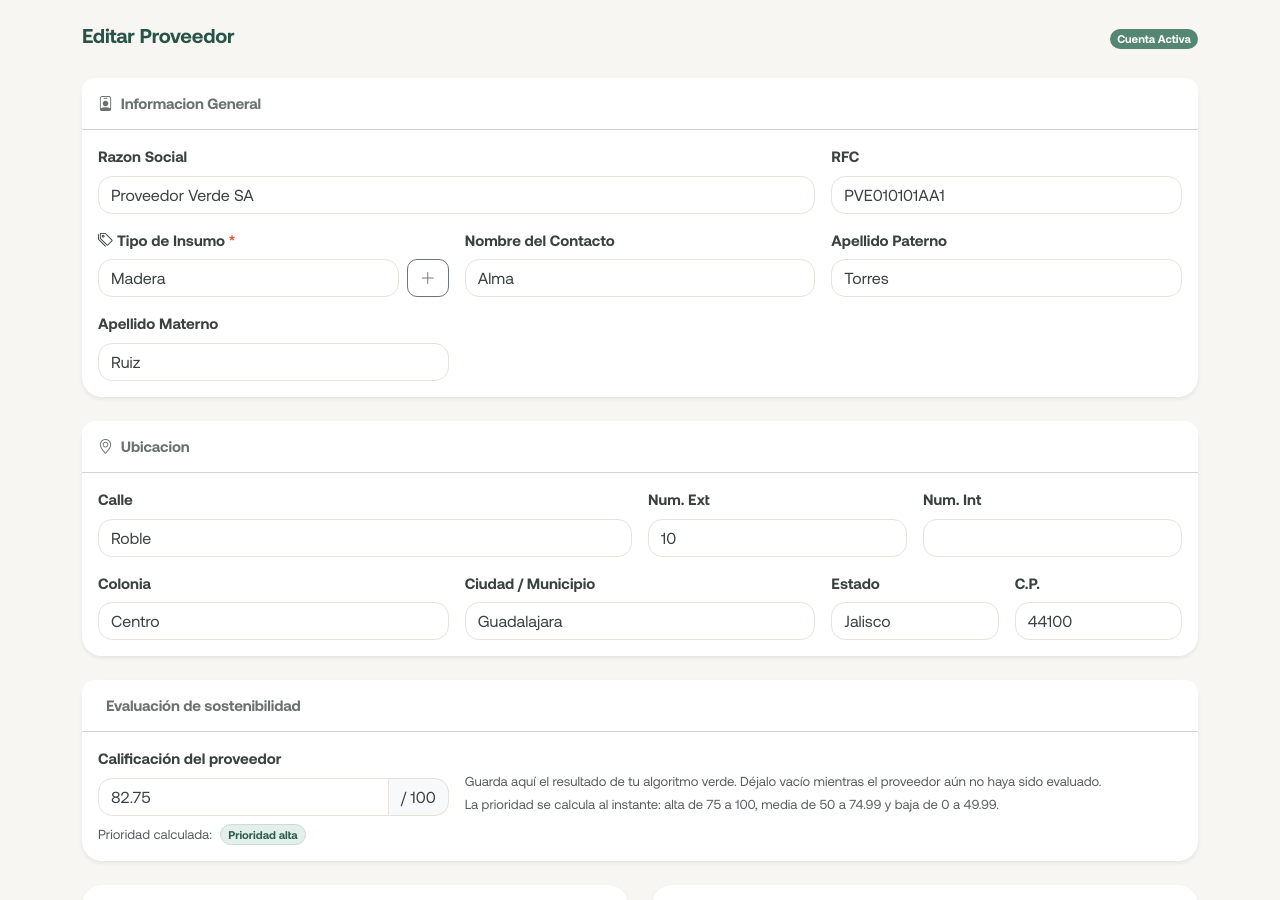
ProveedorForm › muestra y recalcula la prioridad al instante sin guardar
Check: the text "Prioridad alta" is shown, box [220, 824, 306, 845]
Clear the number field labelled "Calificación del proveedor" at x=244, y=797, box [98, 778, 389, 816]
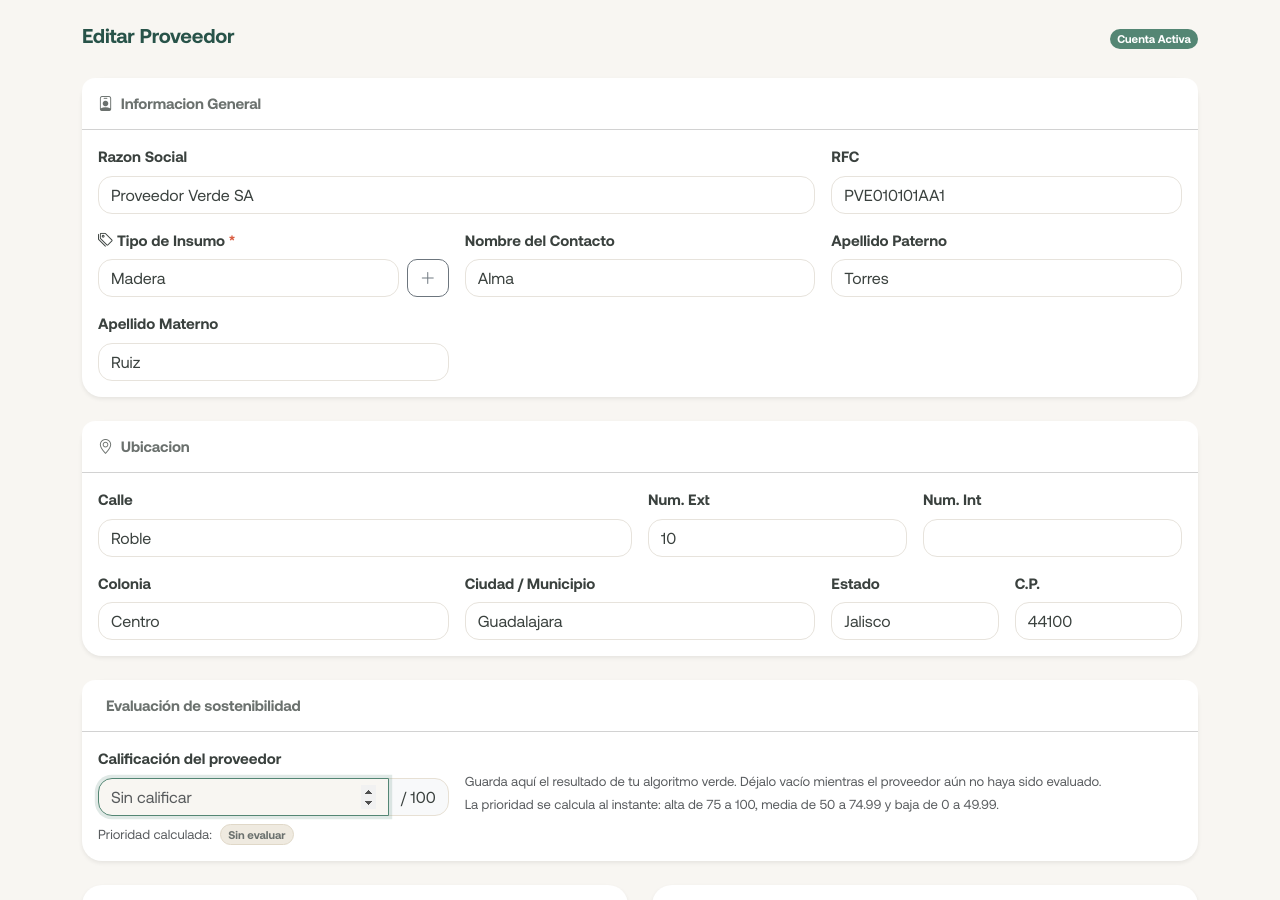
Check: the text "Sin evaluar" is shown, box [220, 824, 294, 845]
Type "49.99" into the number field labelled "Calificación del proveedor" at x=244, y=797, box [98, 778, 389, 816]
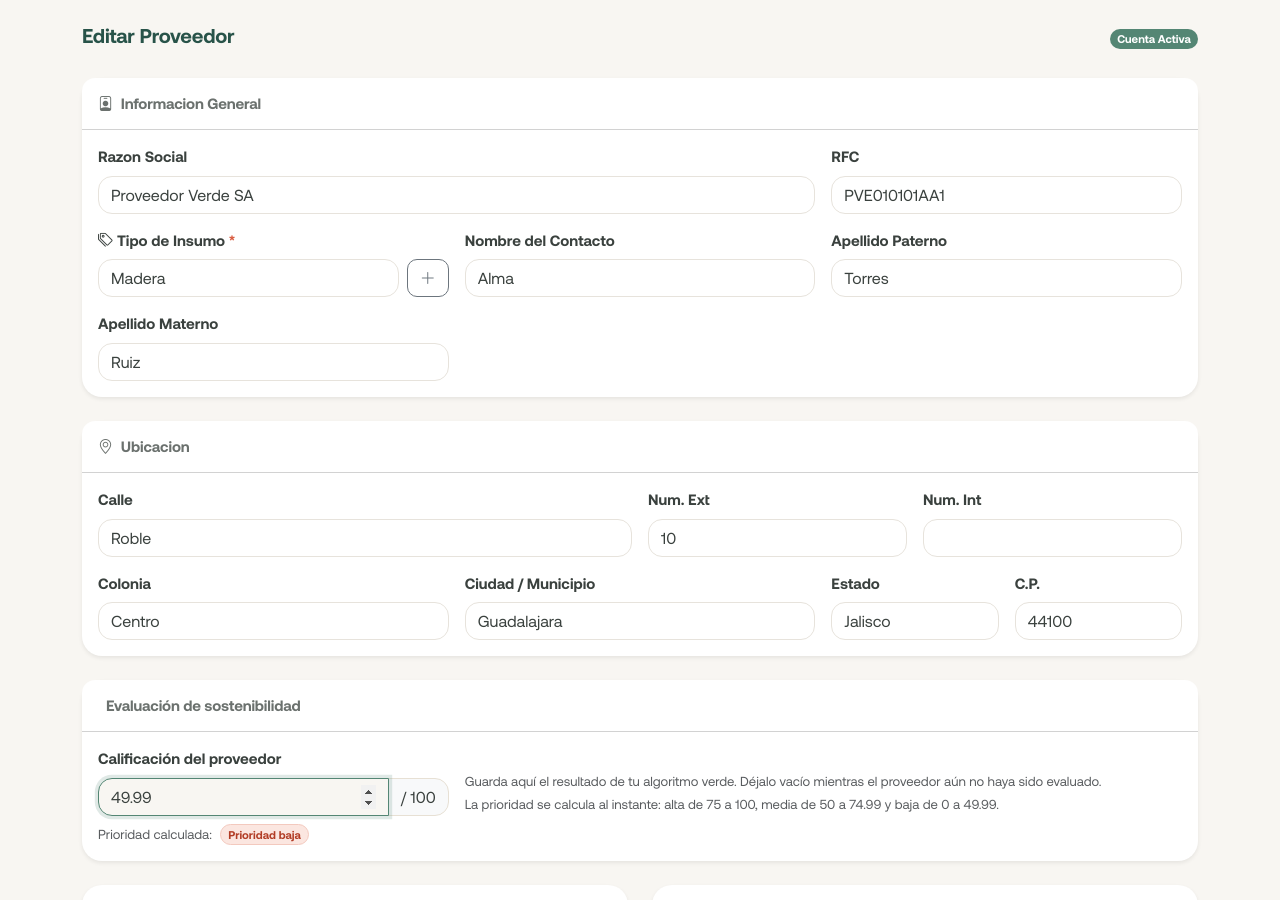
Check: the text "Prioridad baja" is shown, box [220, 824, 309, 845]
Replace the text in the number field labelled "Calificación del proveedor" with "50" at x=244, y=797, box [98, 778, 389, 816]
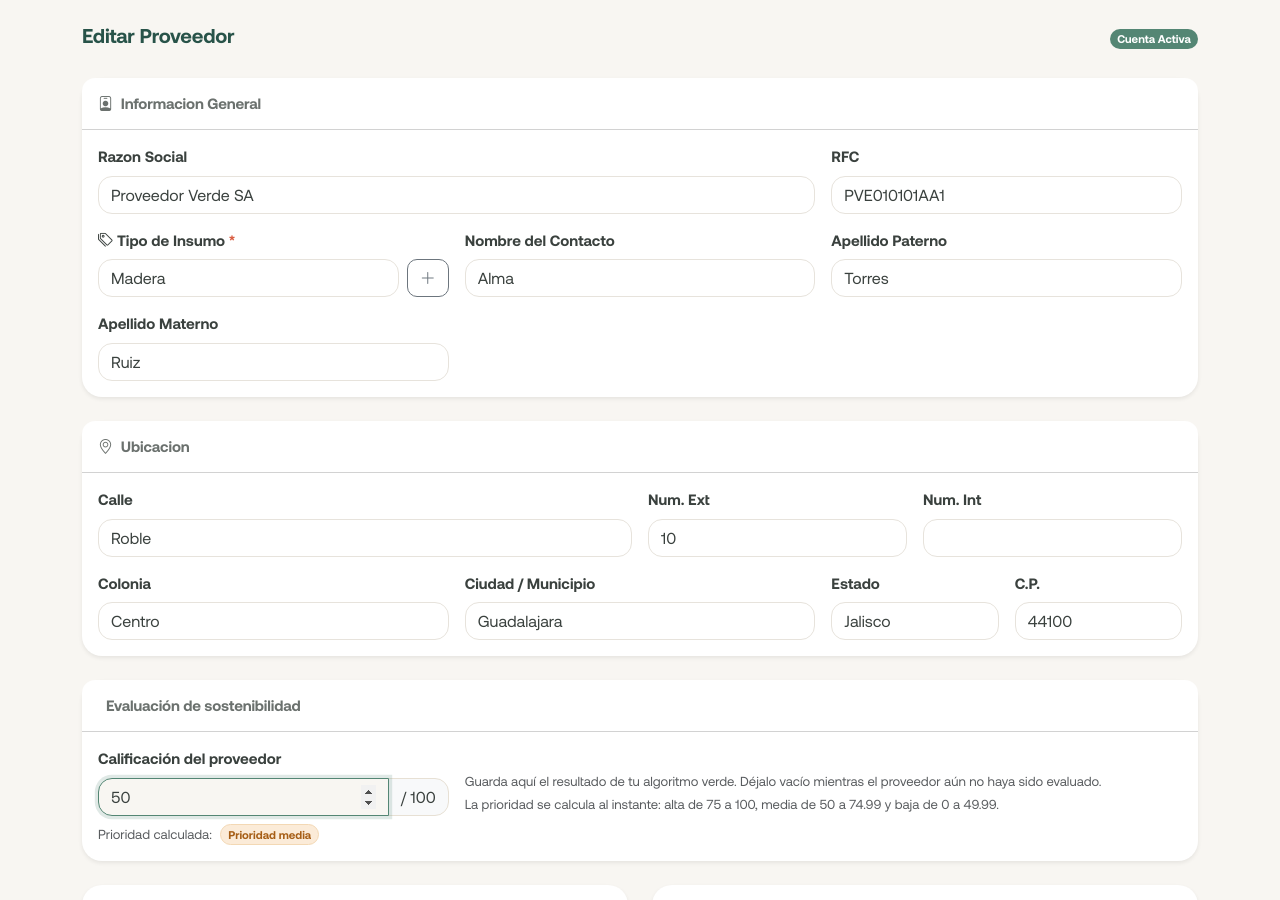
Check: the text "Prioridad media" is shown, box [220, 824, 320, 845]
Replace the text in the number field labelled "Calificación del proveedor" with "75" at x=244, y=797, box [98, 778, 389, 816]
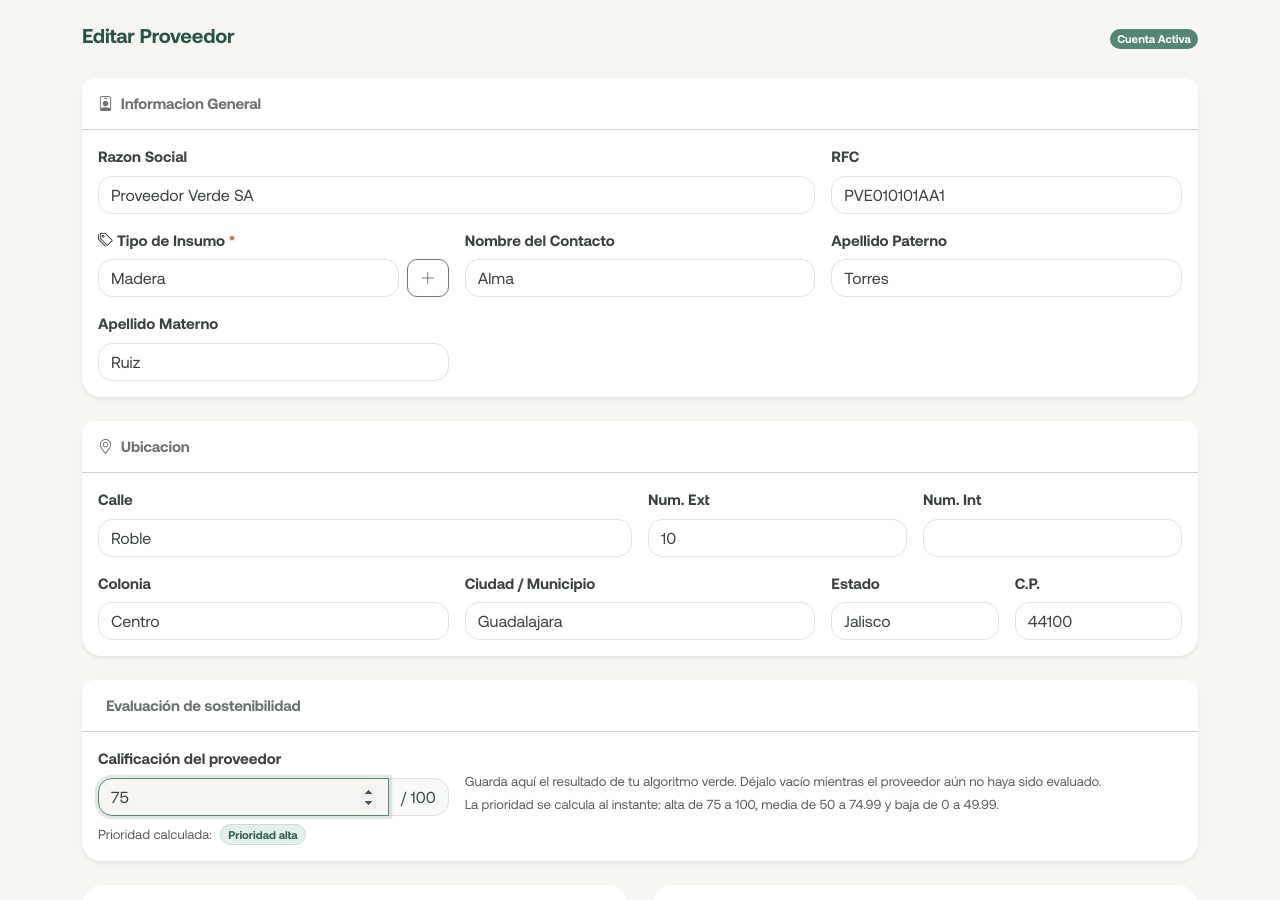
Check: the text "Prioridad alta" is shown, box [220, 824, 306, 845]
